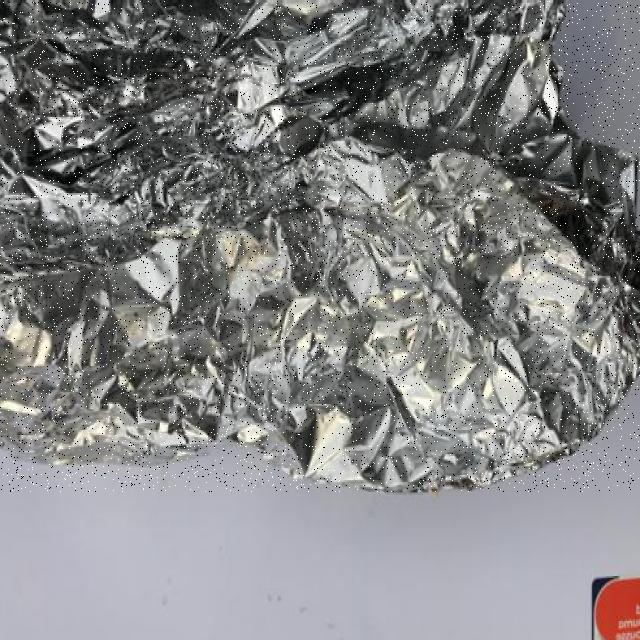metal: (0, 1, 640, 491)
